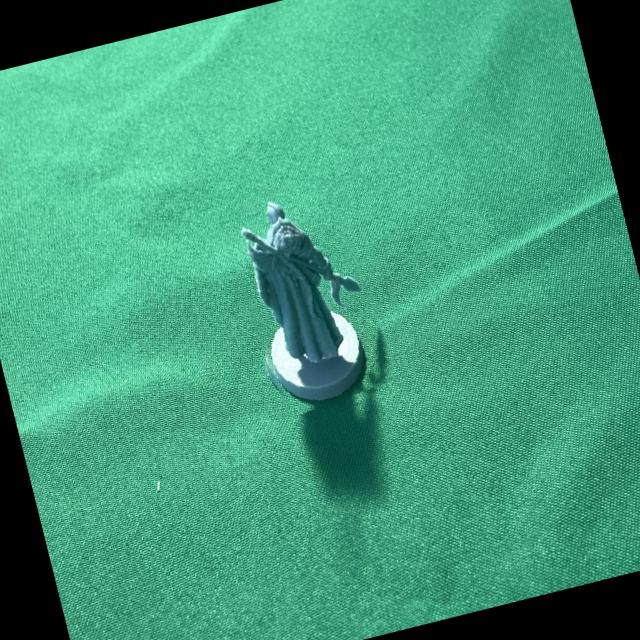isis_follower: (216, 170, 396, 420)
